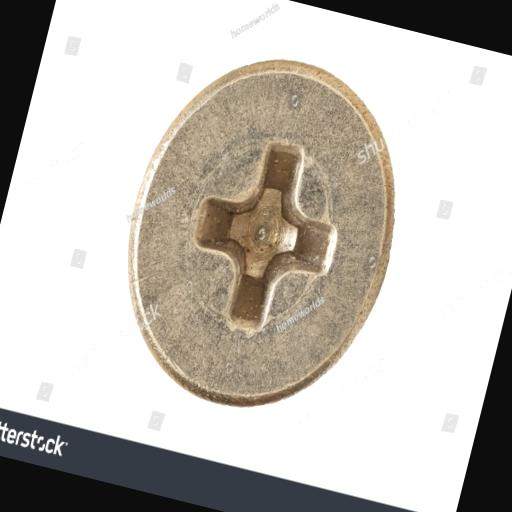Phillips: (92, 32, 426, 436)
